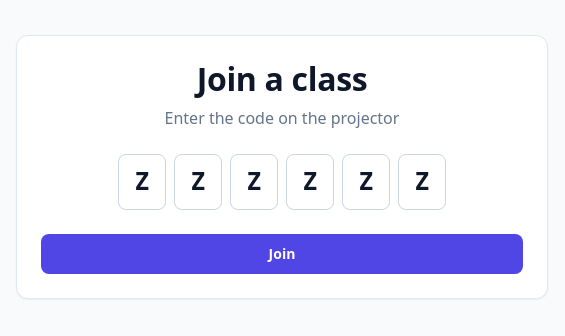
Test: JoinView › T-SESS-05: a wrong or ended code shows "No live class with that code" and outlines the boxes
The width and height of the screenshot is (565, 336).
Click the button "Join" at (282, 254), box [41,234,523,274]
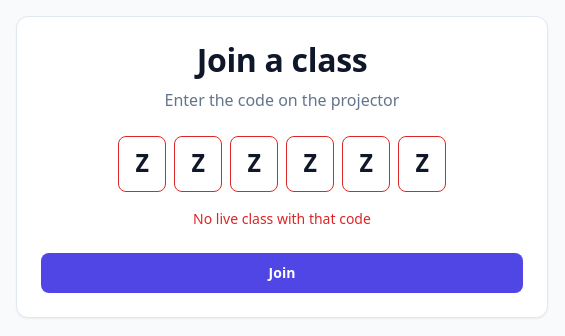
Check: the text with class "ca-field-error" reads "No live class with that code", box [193,209,371,228]
